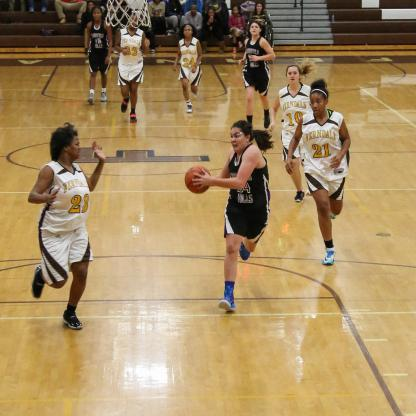Ball: (186, 166, 209, 193)
